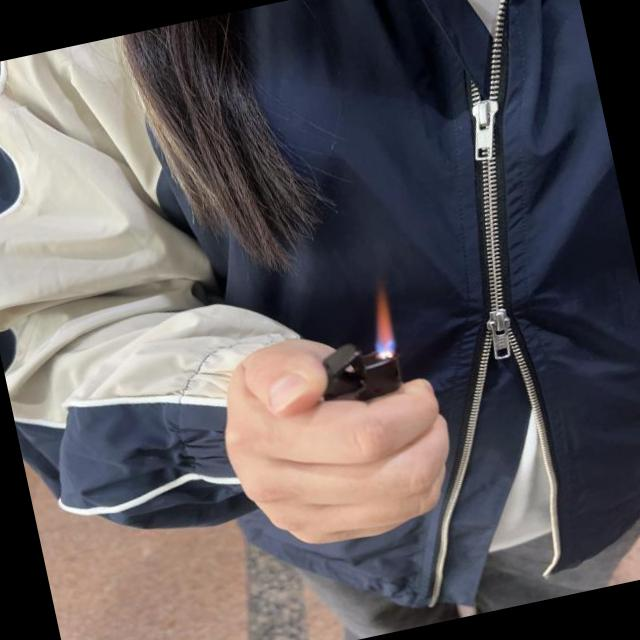Fire: (362, 278, 402, 361)
